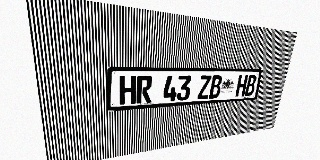3: (176, 75, 191, 101)
4: (163, 75, 178, 102)
B: (209, 75, 223, 99), (244, 75, 257, 96)
H: (119, 75, 136, 105), (235, 75, 248, 97)
R: (136, 75, 152, 104)
Z: (197, 75, 211, 99)
